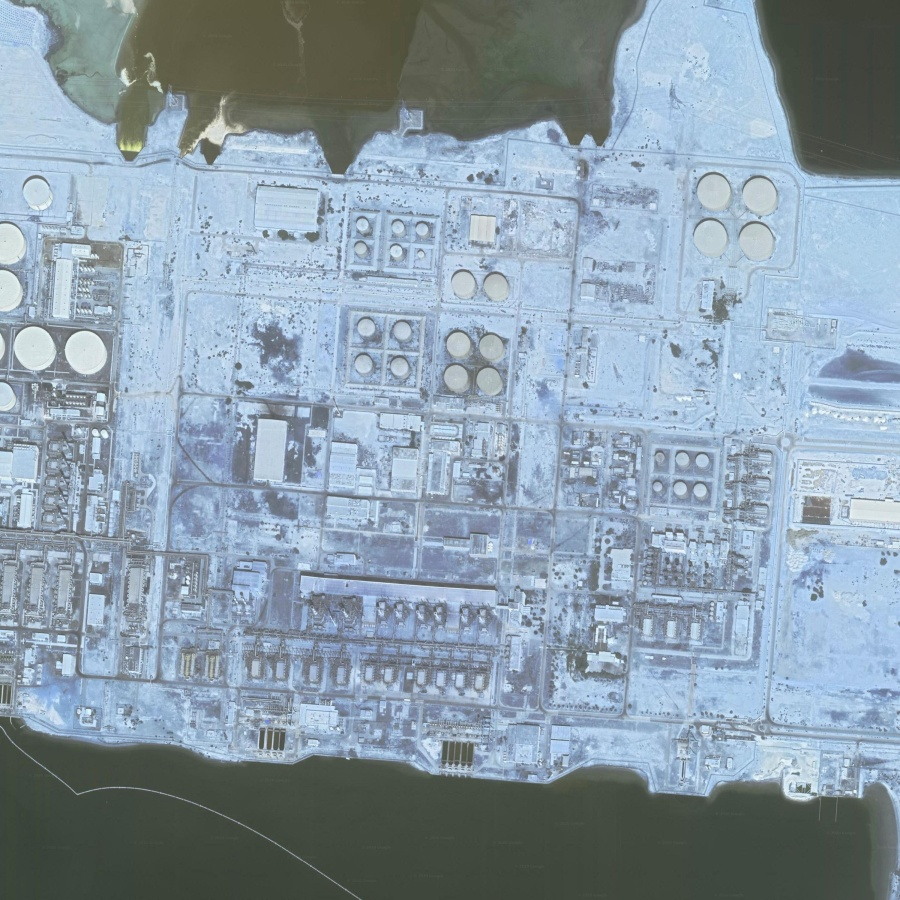PowerPlant: (227, 181, 770, 698)
